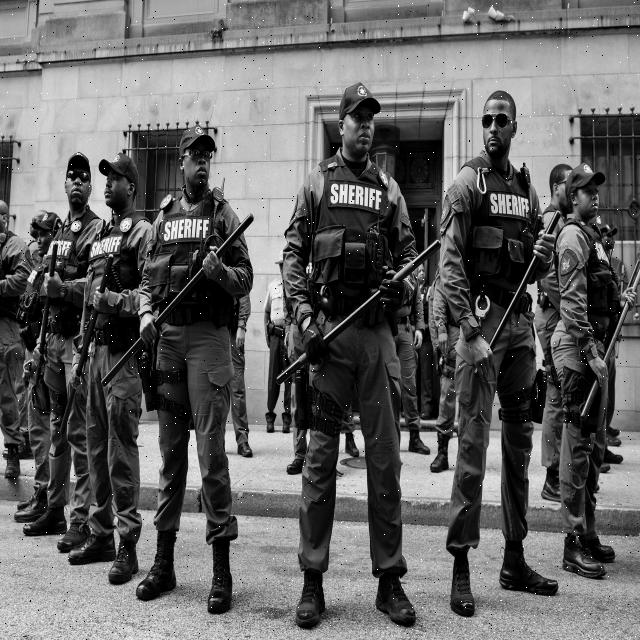police: (256, 43, 427, 620), (434, 73, 547, 620), (146, 108, 246, 624), (542, 126, 626, 574), (88, 140, 147, 580), (32, 130, 91, 570), (0, 188, 23, 510)
